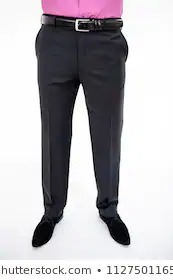F_dress pants: (25, 9, 129, 221)
